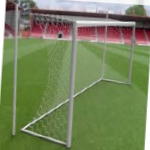goals: (21, 13, 136, 147)
